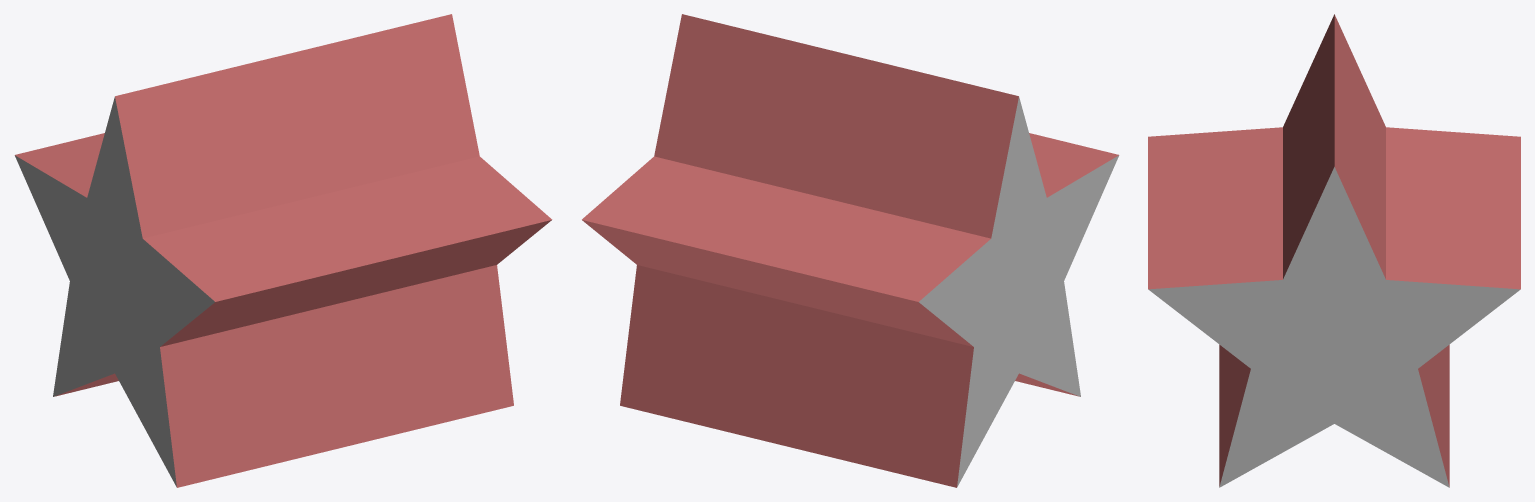
The model's file is hophey_star.fbx.
3 views of the same model, side by side, from view 1: azimuth 30°, elevation 25°; view 2: azimuth 150°, elevation 25°; view 3: azimuth 270°, elevation 25° (orthographic). The views are drawn at different scales.
Visible parts, largest first — view 1: Star; view 2: Star; view 3: Star.
Part boxes in pixels (x1=…): Star: x1=14, y1=14, x2=552, y2=487; Star: x1=582, y1=14, x2=1119, y2=487; Star: x1=1148, y1=14, x2=1520, y2=487.
Size of the model in its own units: 100 by 98.16 by 103.
